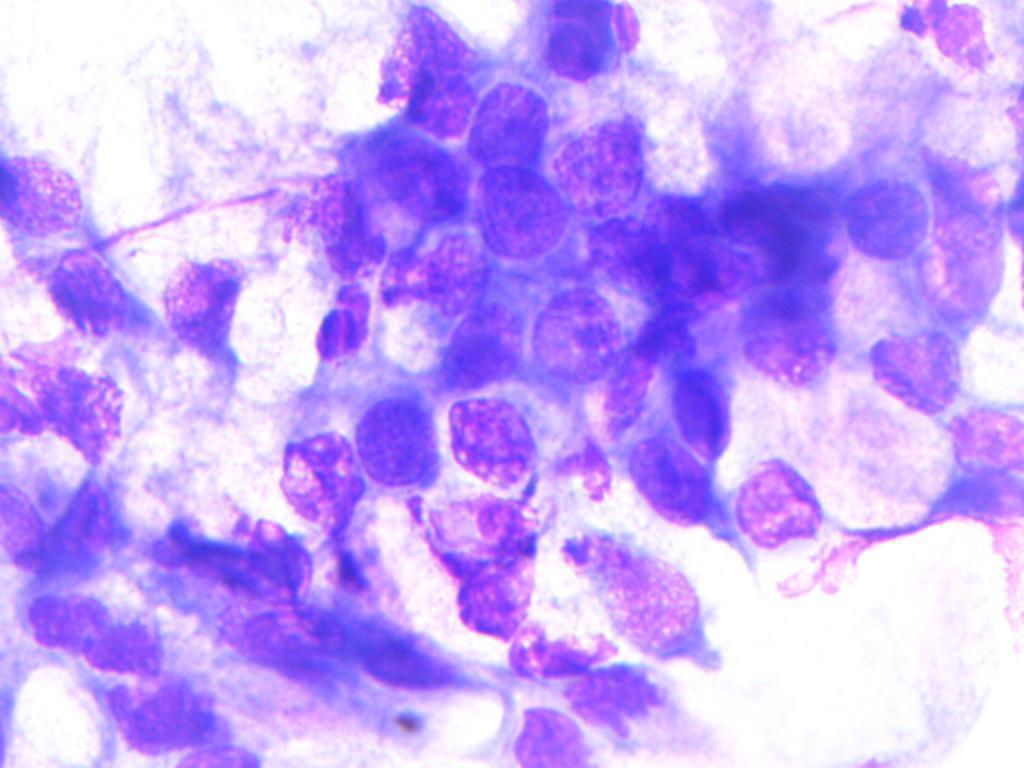artifact: (713, 172, 826, 278)
eosinophil: (576, 531, 730, 676)
epithelial: (17, 571, 186, 681), (370, 4, 483, 146), (14, 248, 164, 353), (411, 540, 547, 646), (152, 247, 246, 372), (880, 0, 1009, 88), (461, 163, 570, 266), (103, 678, 228, 766), (837, 164, 934, 272), (528, 279, 625, 387), (870, 312, 967, 420), (436, 384, 533, 492), (347, 385, 444, 493), (732, 450, 829, 558), (738, 296, 844, 392), (268, 432, 367, 534), (546, 112, 647, 211), (621, 439, 718, 540), (659, 357, 747, 468), (0, 153, 101, 248), (302, 264, 390, 369), (455, 78, 546, 160), (956, 399, 1024, 470)
neutrophil: (514, 0, 641, 90)
